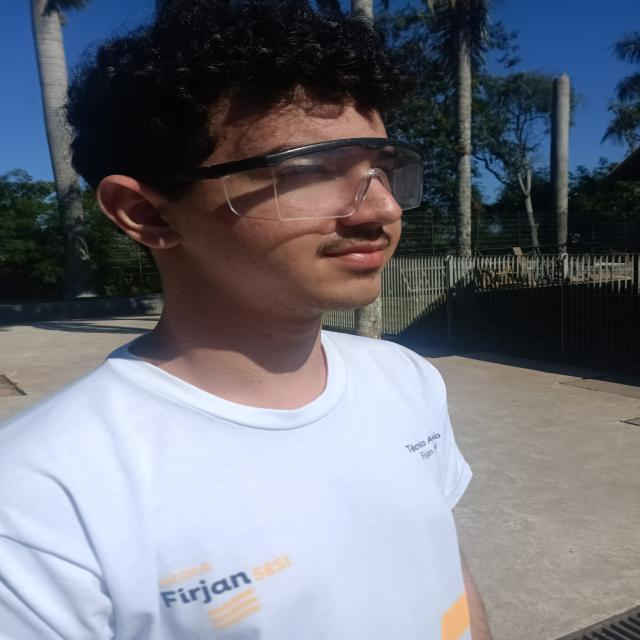oculos-epi: (138, 137, 430, 224)
